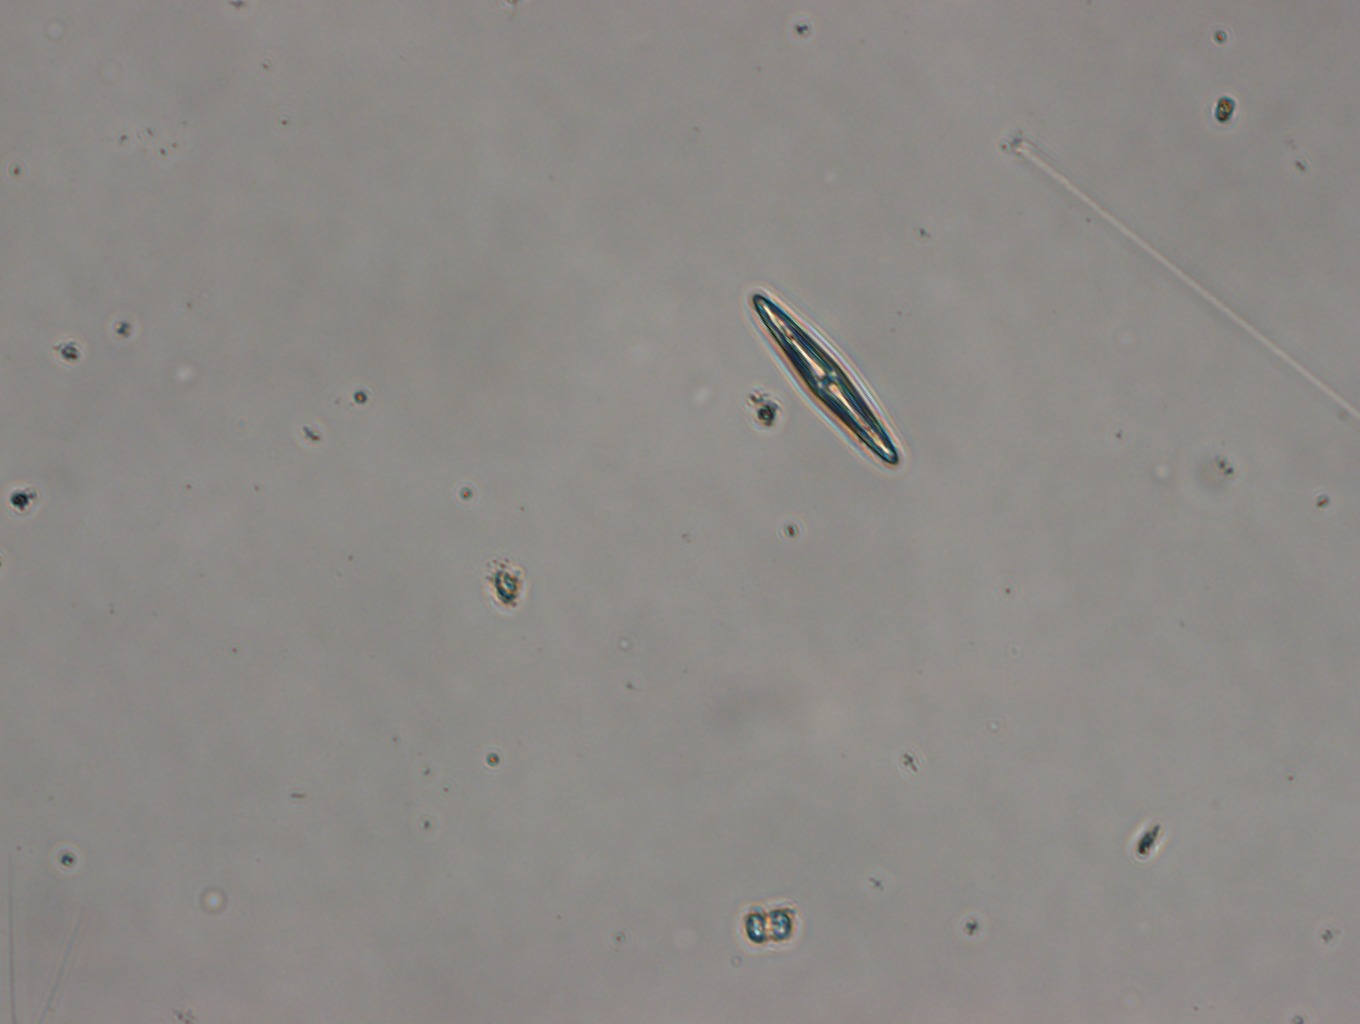navicula: (743, 286, 901, 475)
